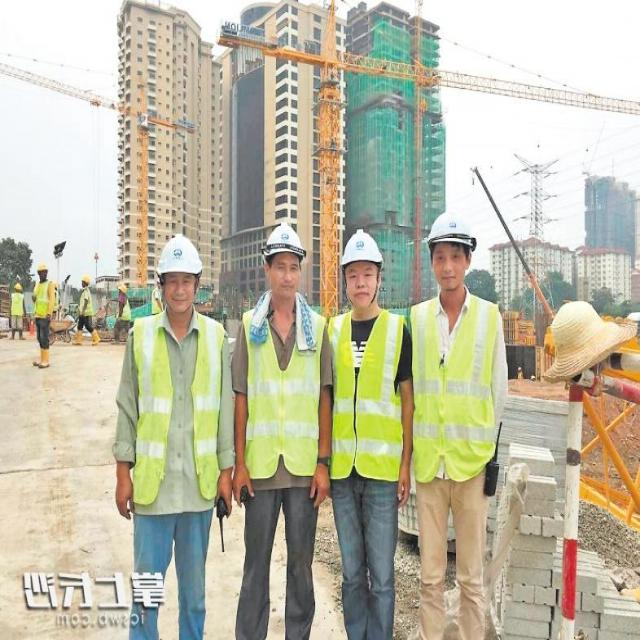Reflective-Jacket: (127, 313, 227, 505), (408, 296, 502, 482), (238, 308, 326, 480), (325, 308, 407, 484), (34, 280, 57, 318), (10, 295, 24, 316)
Safety-Helmet: (154, 230, 203, 280), (424, 207, 478, 250), (339, 227, 384, 268), (262, 223, 306, 261), (36, 260, 50, 272), (81, 272, 91, 284), (14, 282, 23, 292)
